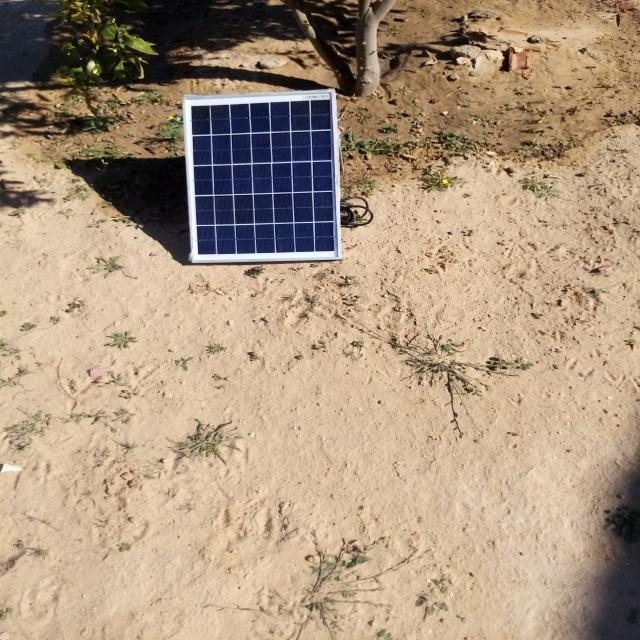no faulty: (184, 90, 341, 263)
